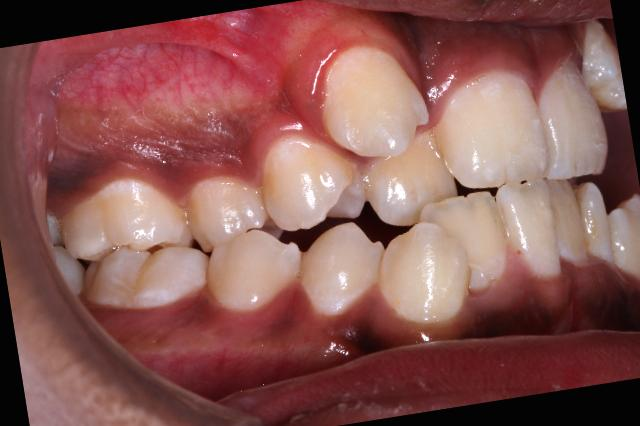canine class II 1/4: (262, 27, 480, 346)
molar class III 1/4: (44, 162, 214, 326)
